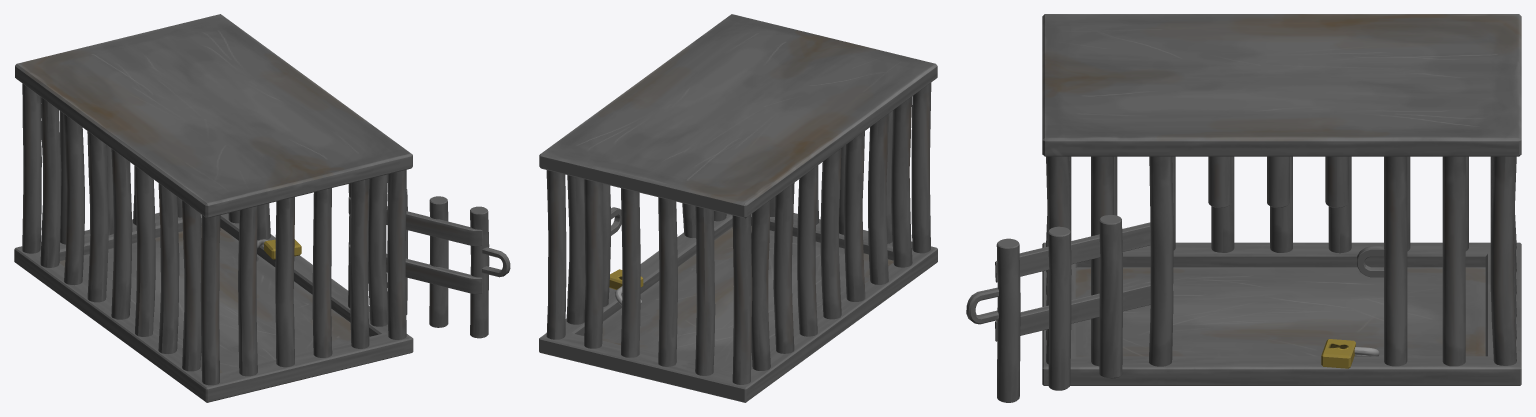
Rendered from big_cage_open.fbx.
The picture shows the model from 3 angles, left to right: view 1: azimuth 30°, elevation 25°; view 2: azimuth 150°, elevation 25°; view 3: azimuth 270°, elevation 25°; orthographic projection. The views are drawn at different scales.
Parts seen in each view (by area): view 1: big cage open; view 2: big cage open; view 3: big cage open.
Part boxes in pixels (box(x1,y1,x2,y2)): big cage open: box(14, 14, 510, 402); big cage open: box(539, 14, 937, 402); big cage open: box(966, 14, 1521, 402).
Bounding box in the file's own units: 3296 × 2283 × 4635.
Materials: 1 (1 with a texture image).
